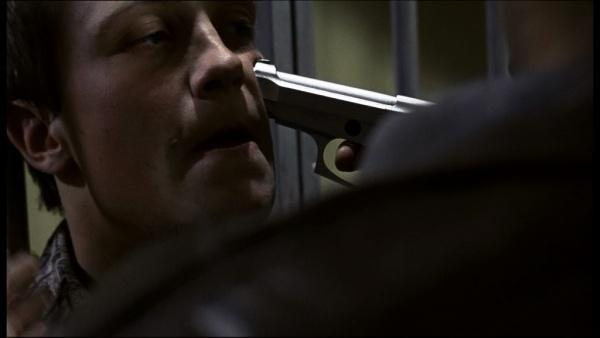Gun: (253, 58, 443, 191)
